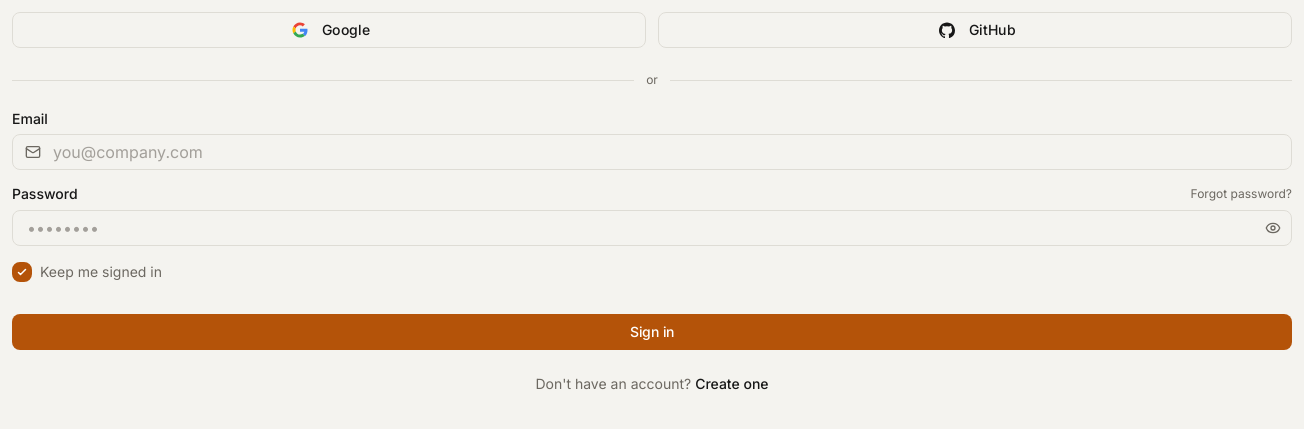
Scenario: SignInForm — user behaviour (isolated) › validates email format
This screenshot has width=1304, height=429.
Type "not-an-email" into the field labelled "Email". click: (652, 152)
box: [13, 135, 1291, 169]
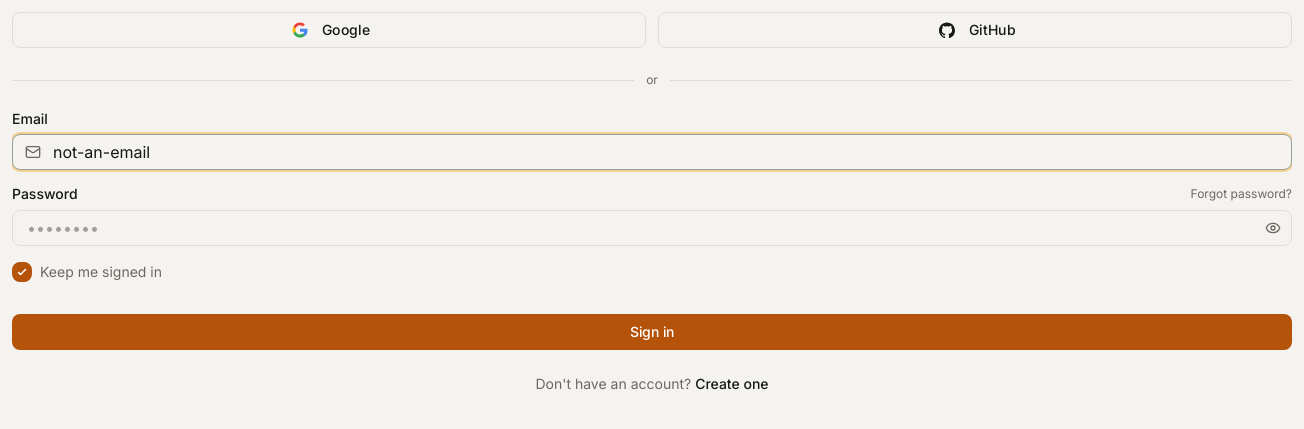
Type "secret123" into the password field labelled "Password". click: (652, 228)
box: [13, 211, 1291, 245]
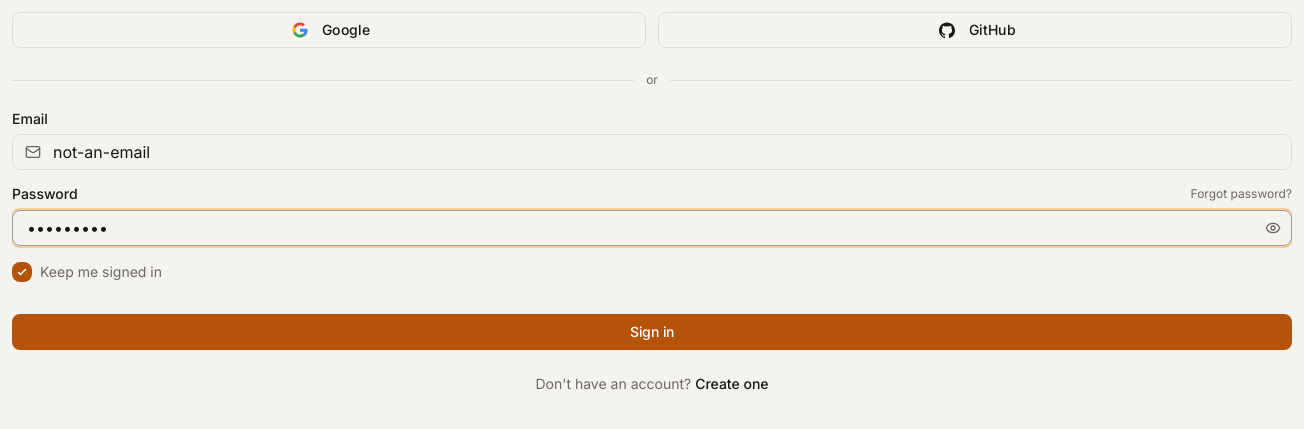
Click the button named "sign in". click: (652, 332)
box: [12, 314, 1292, 350]
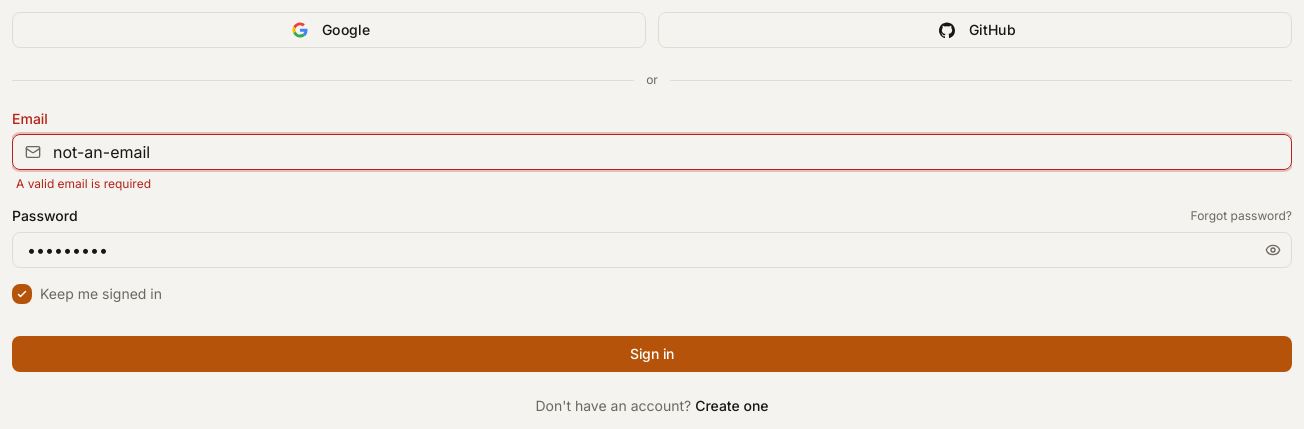
Expected: the text "A valid email is required" is shown, [16, 176, 151, 191]
